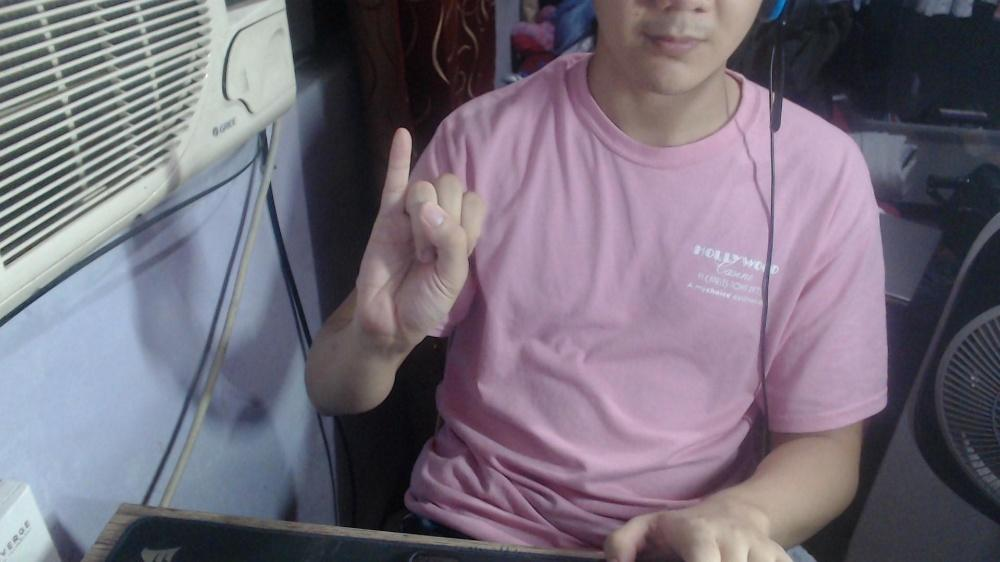i: (353, 121, 484, 341)
